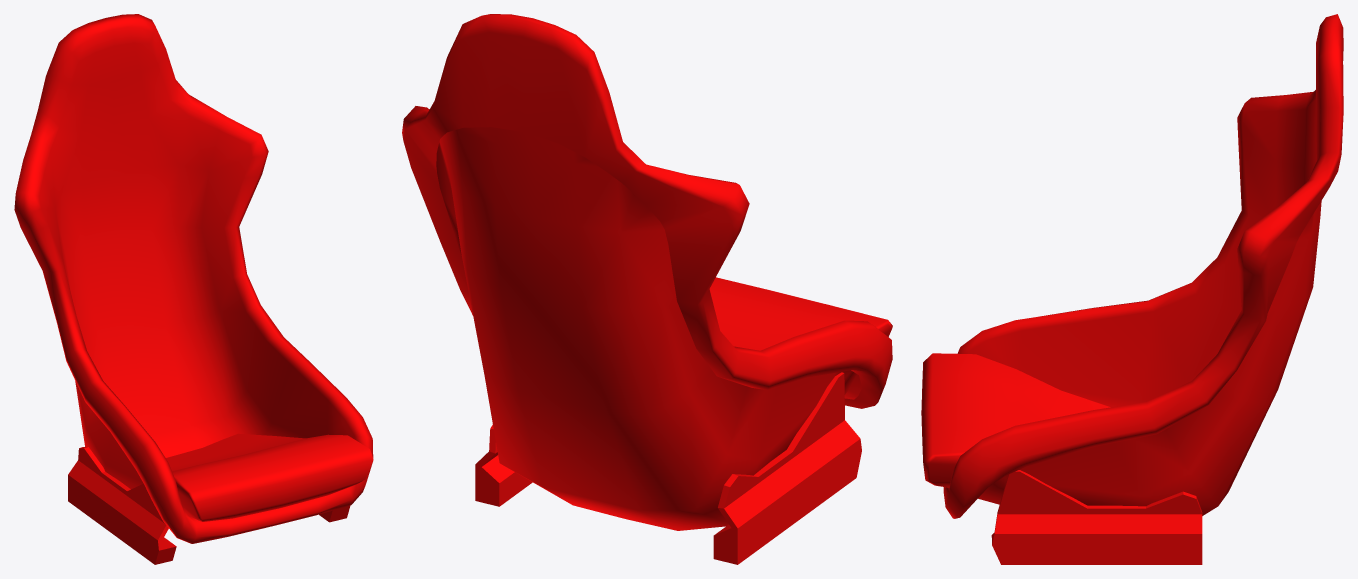
Rendered from BMW_E36_Seat.fbx.
3 views of the same model, side by side, from view 1: azimuth 30°, elevation 25°; view 2: azimuth 150°, elevation 25°; view 3: azimuth 270°, elevation 25° (orthographic). The views are drawn at different scales.
Parts seen in each view (by area): view 1: BMW_E36_Seat; view 2: BMW_E36_Seat; view 3: BMW_E36_Seat.
Part boxes in pixels (x1=…): BMW_E36_Seat: x1=14, y1=14, x2=373, y2=564; BMW_E36_Seat: x1=402, y1=14, x2=892, y2=564; BMW_E36_Seat: x1=921, y1=14, x2=1343, y2=564.
Bounding box in the file's own units: 0.5253 × 0.8387 × 0.6644.
